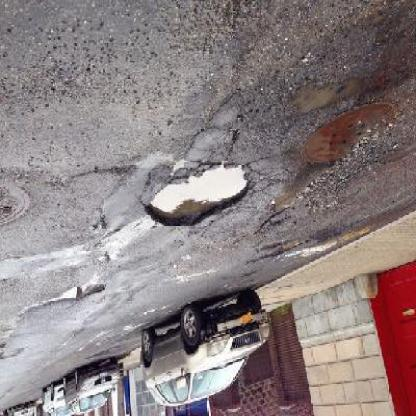pothole: (144, 162, 251, 231), (289, 79, 364, 120), (251, 240, 312, 267), (59, 283, 108, 305)
